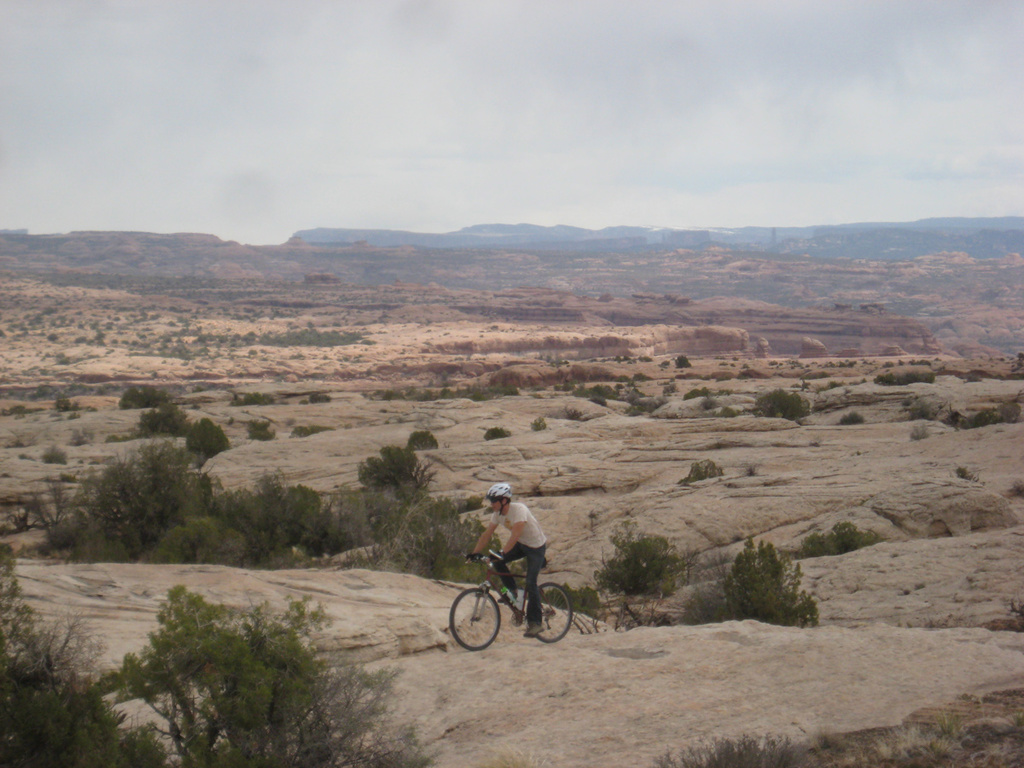Bike: (452, 548, 578, 651)
